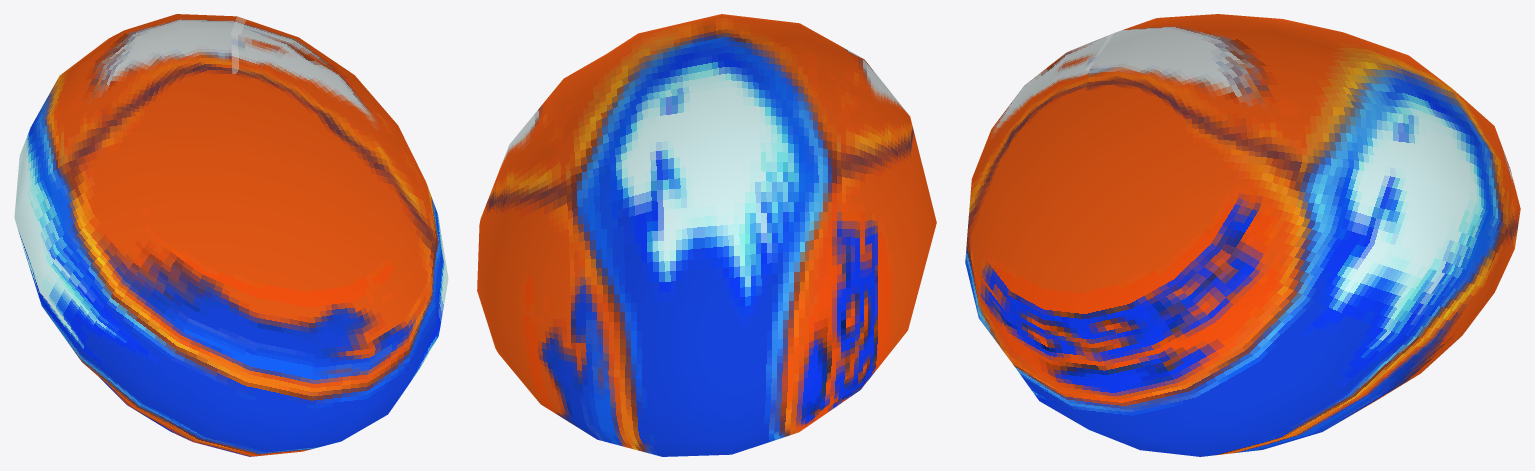
File: ps2_save-icons_probeachsoccer.glb
3 renders of one model, left to right at view 1: azimuth 30°, elevation 25°; view 2: azimuth 150°, elevation 25°; view 3: azimuth 270°, elevation 25°, orthographic. The views are drawn at different scales.
Visible parts, largest first — view 1: icon.ico; view 2: icon.ico; view 3: icon.ico.
Part boxes in pixels (bbox=[...]): icon.ico: bbox=[14, 14, 448, 456]; icon.ico: bbox=[477, 14, 936, 456]; icon.ico: bbox=[965, 14, 1520, 456].
Size of the model in its own units: 2.16 by 2.28 by 2.86.
1 material, 1 textured.
